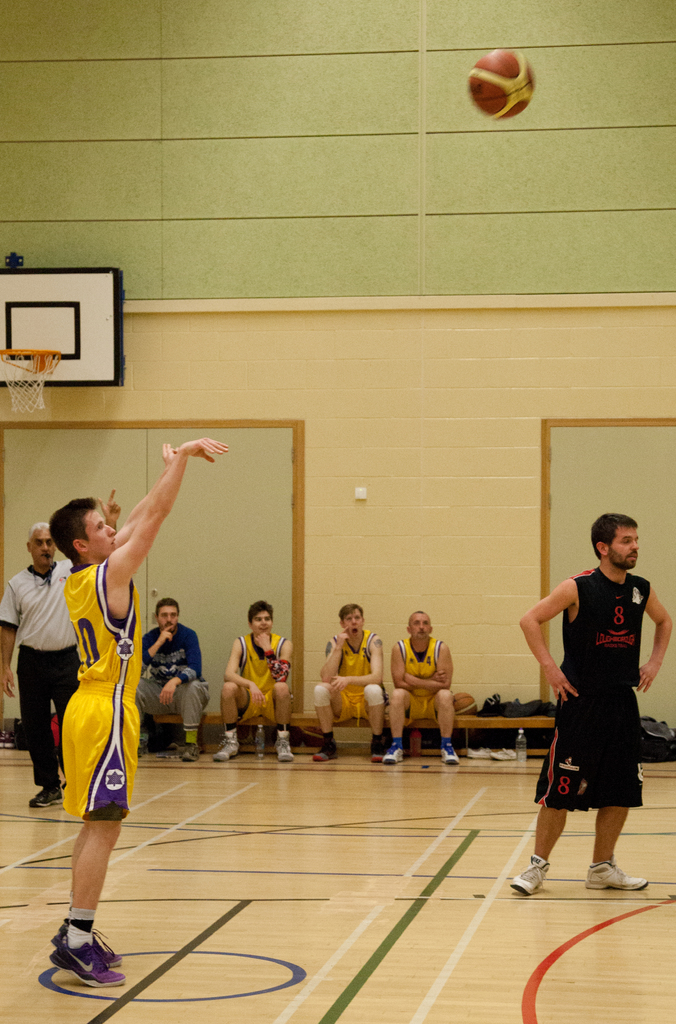Ball: (467, 50, 534, 116)
